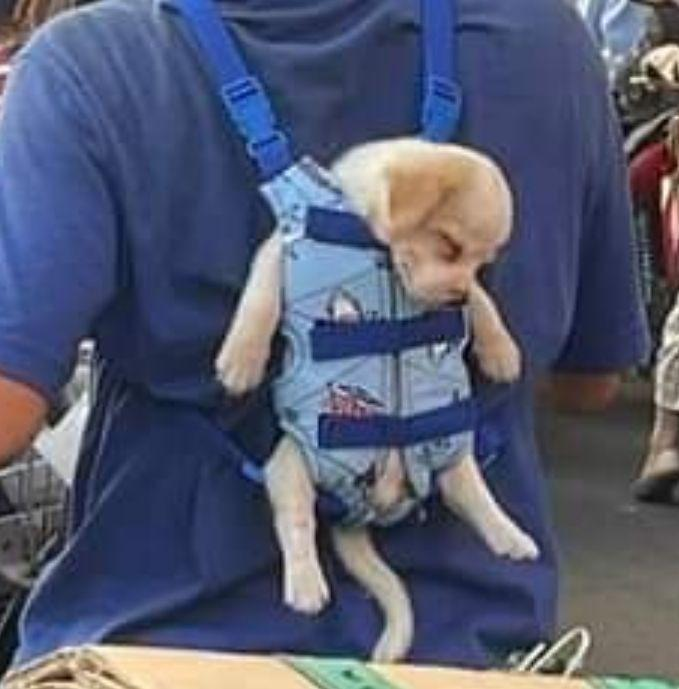puppy-dog: (213, 135, 545, 667)
